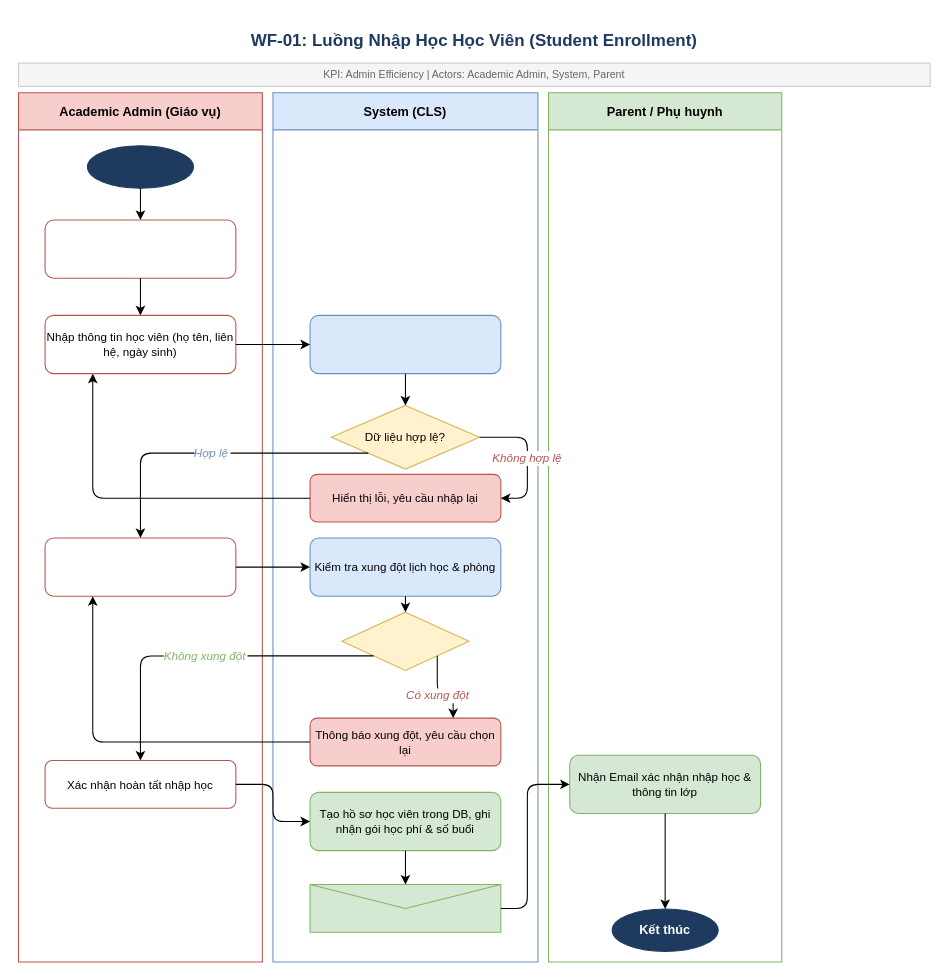
Image size: 949x980. Some labels were removed from this diagram. The centre of each missing label's shape, as x and y in pixels:
"Bắt đầu" goes at point 139,166.
"Chọn lớp học & Gói học phí" goes at point 140,566.
"Có xung đột?" goes at point 405,640.
"Gửi Email chào mừng tới Phụ huynh (tự động)" goes at point 405,908.
"Tiếp nhận yêu cầu nhập học từ Phụ huynh" goes at point 140,248.
"Validate dữ liệu (trùng lặp, thiếu trường bắt buộc)" goes at point 405,344.
